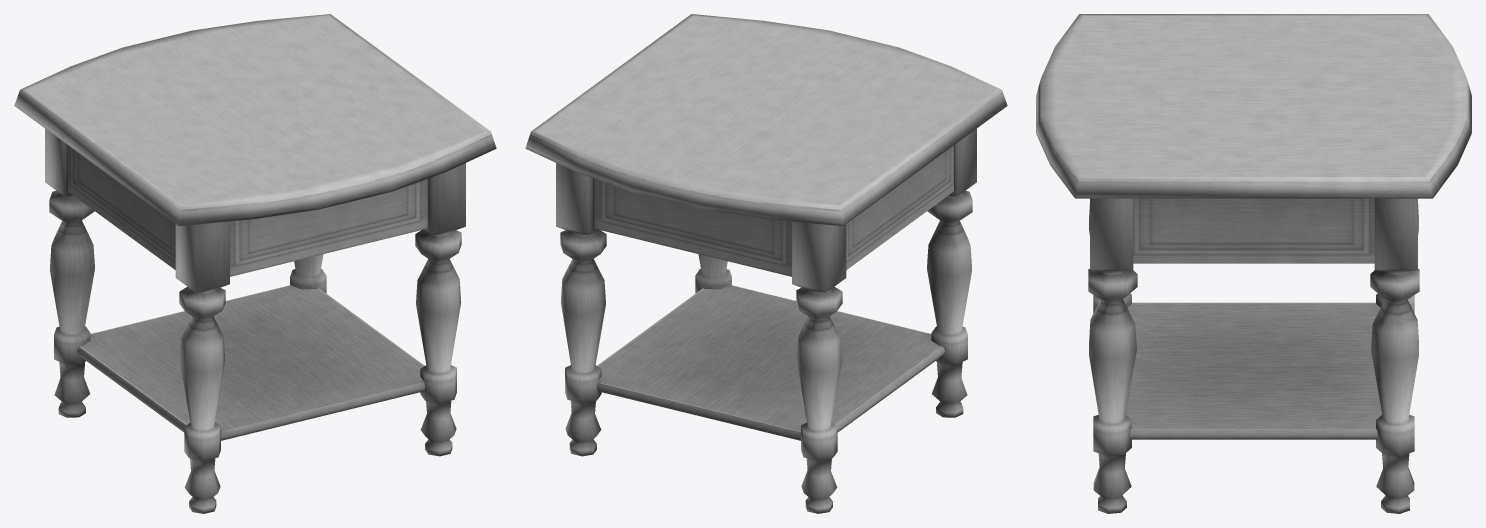
File: endtable-high.fbx
3 views of the same model, side by side, from view 1: azimuth 30°, elevation 25°; view 2: azimuth 150°, elevation 25°; view 3: azimuth 270°, elevation 25° (orthographic). The views are drawn at different scales.
Parts seen in each view (by area): view 1: endtable1-high; view 2: endtable1-high; view 3: endtable1-high.
Boxes of the visible parts, x1=… form: endtable1-high: x1=14, y1=14, x2=496, y2=513; endtable1-high: x1=525, y1=14, x2=1007, y2=513; endtable1-high: x1=1036, y1=14, x2=1471, y2=513.
Bounding box in the file's own units: 205 × 197 × 224.
